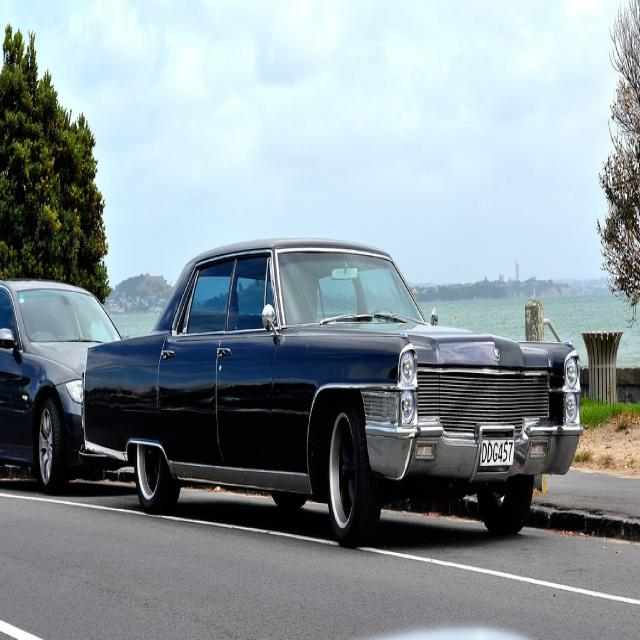car: (2, 232, 576, 539)
